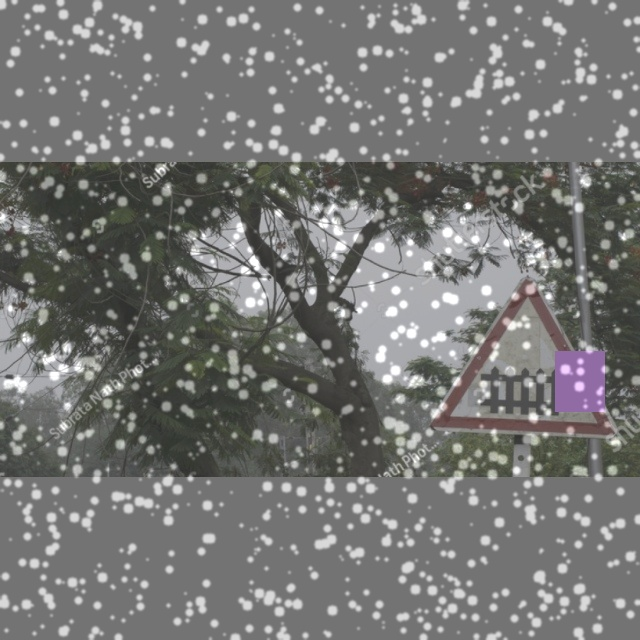Guarded_Level_Crossing: (433, 279, 612, 437)
